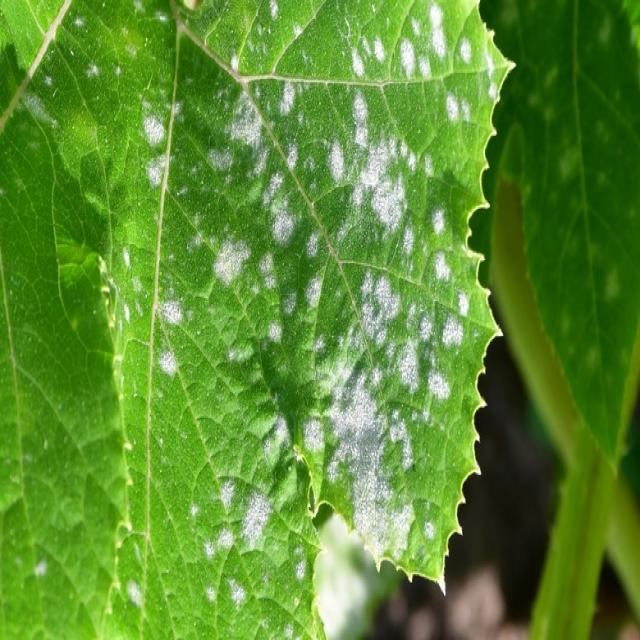Powdery Mildew: (1, 0, 515, 637)
